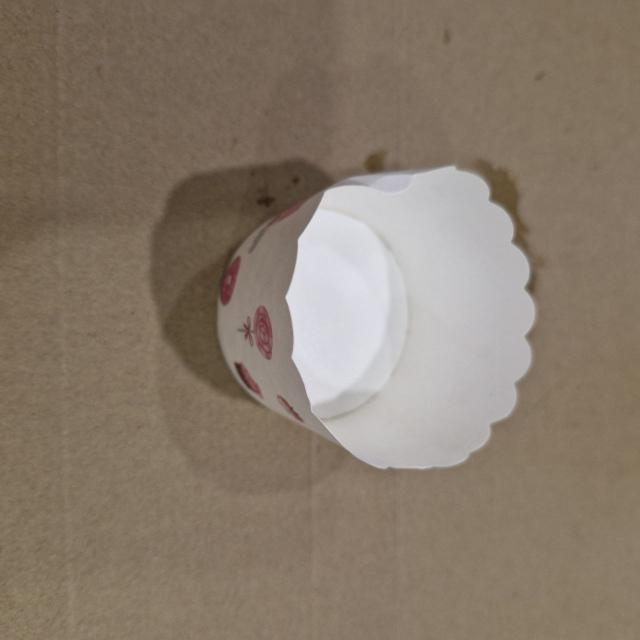paper: (213, 157, 551, 473)
